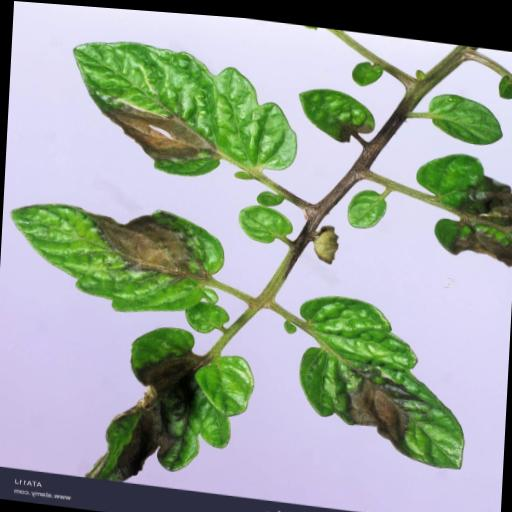Healthy: (426, 82, 504, 139), (236, 197, 292, 241), (345, 180, 387, 224), (183, 295, 229, 332)
Late Blight: (66, 32, 300, 185), (292, 285, 470, 463), (82, 313, 256, 493), (5, 189, 224, 320), (410, 140, 512, 259), (296, 80, 375, 141)
